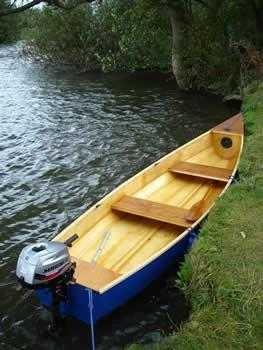kayak: (14, 111, 245, 350)
